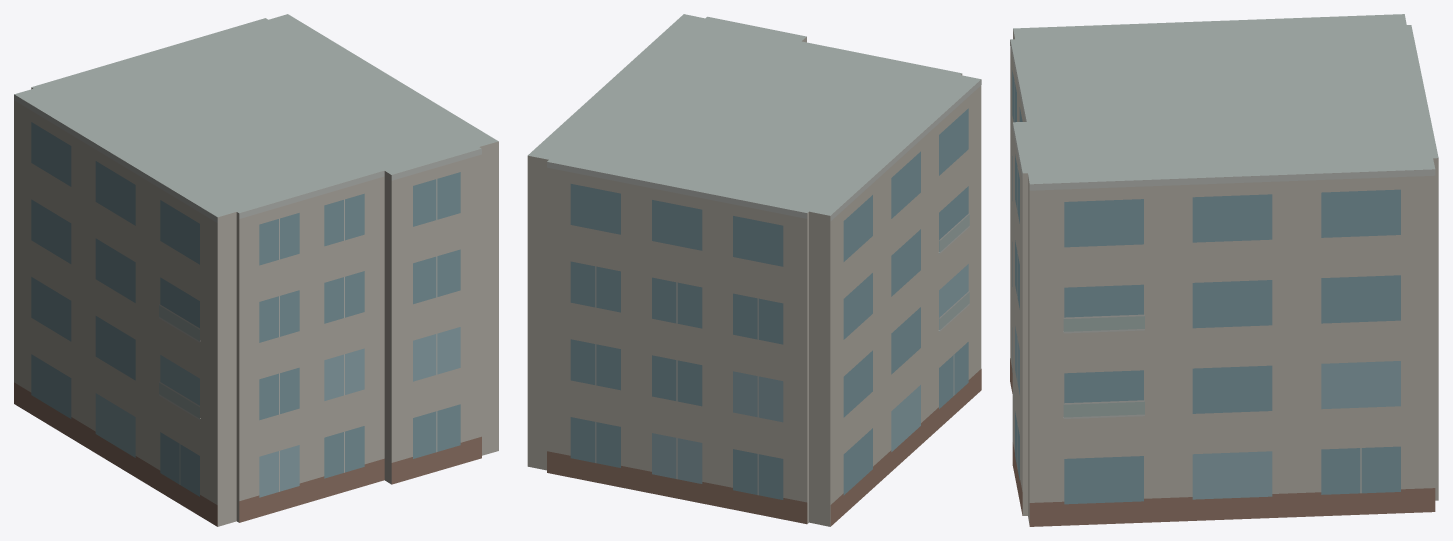
Rendered from survey-upis-32622343.glb.
3 views of the same model, side by side, from view 1: azimuth 30°, elevation 25°; view 2: azimuth 150°, elevation 25°; view 3: azimuth 270°, elevation 25° (orthographic). The views are drawn at different scales.
Parts seen in each view (by area): view 1: survey-upis-32622343.tmp; view 2: survey-upis-32622343.tmp; view 3: survey-upis-32622343.tmp.
Part boxes in pixels (x1,y1,x2,y2): survey-upis-32622343.tmp: (14,14,498,526); survey-upis-32622343.tmp: (527,14,981,526); survey-upis-32622343.tmp: (1010,14,1438,526).
Size of the model in its own units: 13.87 by 13 by 14.74.
